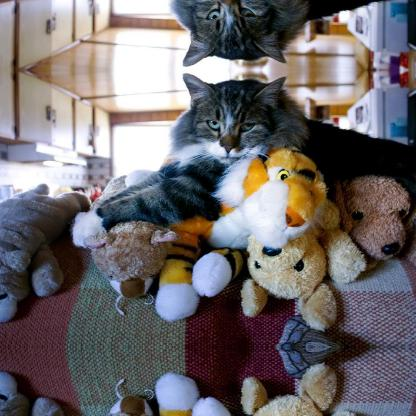Cat: (68, 70, 414, 247), (67, 0, 415, 68)
